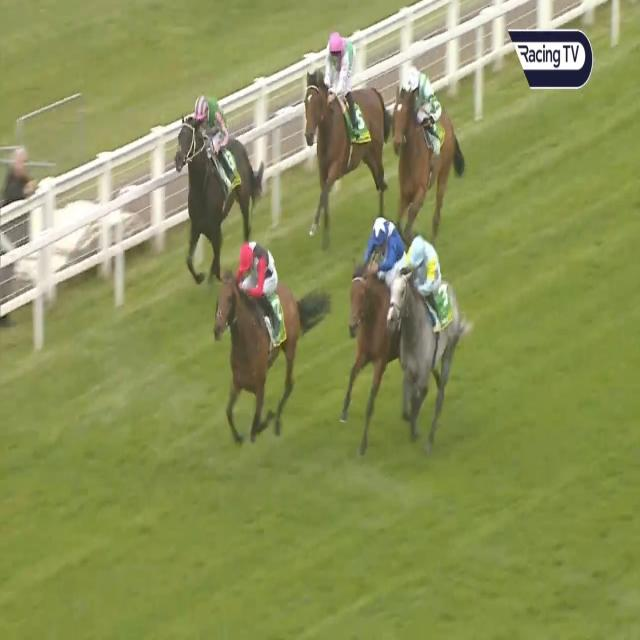horses-racing: (205, 238, 313, 424), (390, 221, 478, 442), (293, 35, 397, 207), (169, 88, 262, 250), (395, 68, 463, 222), (348, 206, 403, 388)
